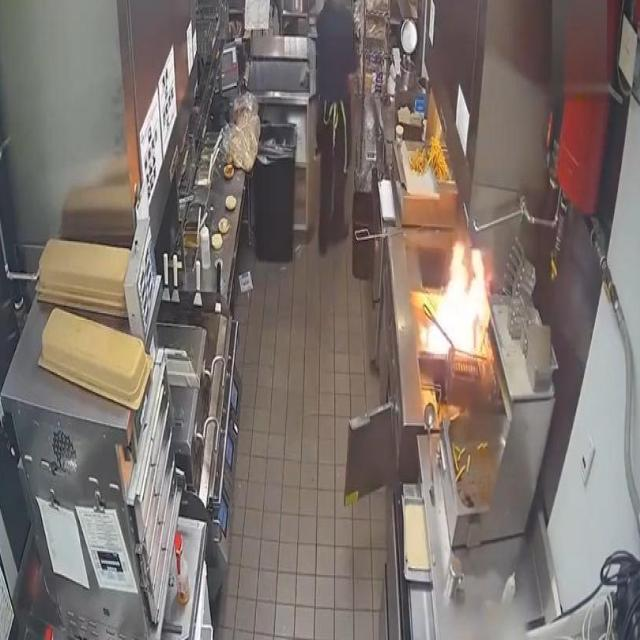smoke: (418, 230, 496, 362)
